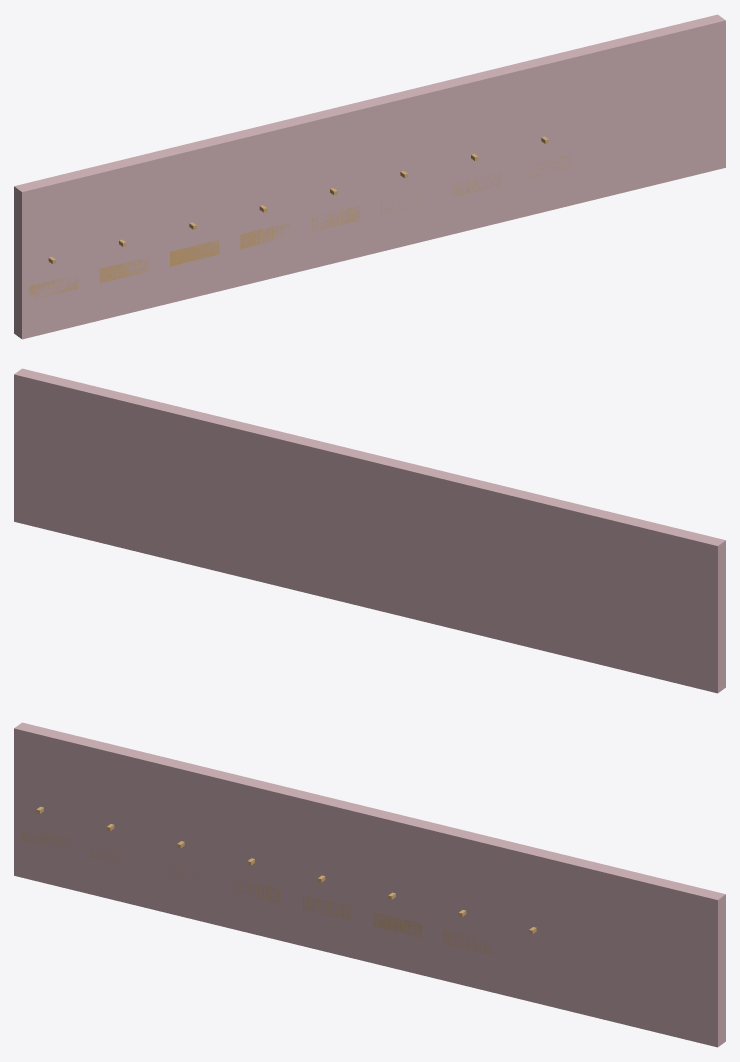
Rendered from board.glb.
The picture shows the model from 3 angles, top to bottom: view 1: azimuth 30°, elevation 25°; view 2: azimuth 150°, elevation 25°; view 3: azimuth 330°, elevation 25°; orthographic projection.
Parts seen in each view (by area): view 1: Substrate_Layer_0, Substrate_Layer_3, Substrate_Layer_2, Substrate_Layer_4; view 2: Substrate_Layer_0; view 3: Substrate_Layer_0, Substrate_Layer_6.
Boxes of the visible parts, x1,y1,x2,y2 form: Substrate_Layer_0: (14,14,725,339); Substrate_Layer_3: (170,240,219,266); Substrate_Layer_2: (99,257,148,283); Substrate_Layer_4: (240,223,289,249); Substrate_Layer_0: (14,368,725,693); Substrate_Layer_0: (14,722,725,1047); Substrate_Layer_6: (373,912,422,938).
Size of the model in its own units: 0.1 by 0.02 by 0.003.
